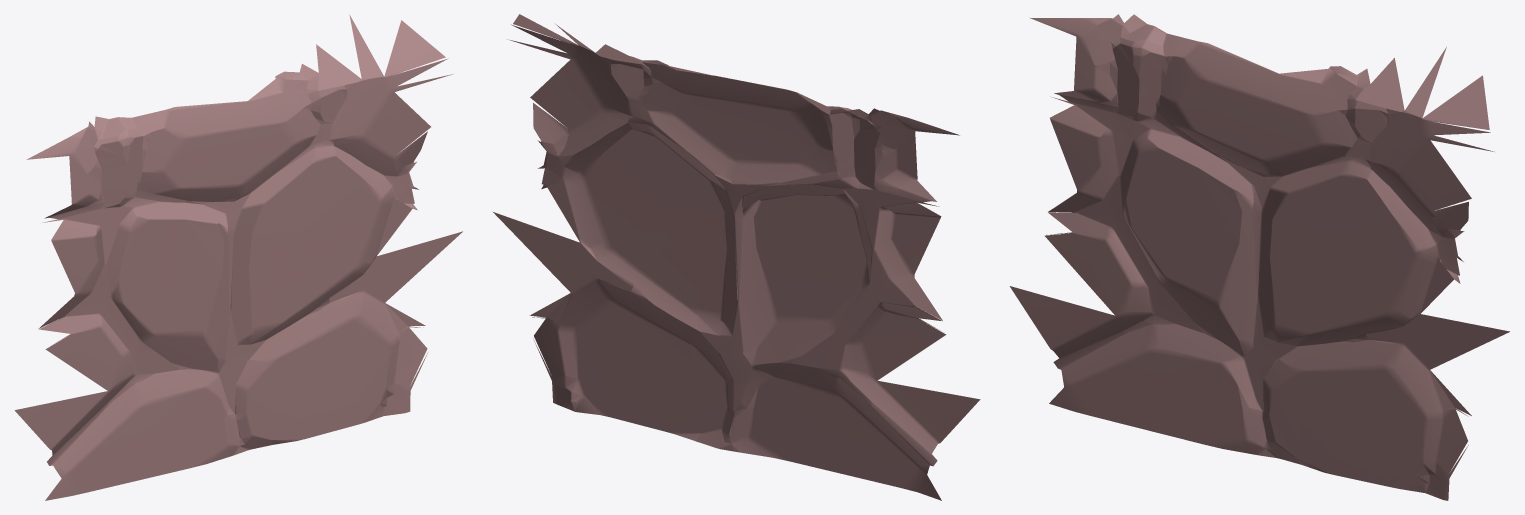
Rendered from plateau.fbx_Rock_Plateau_007LODs.fbx.
3 views of the same model, side by side, from view 1: azimuth 30°, elevation 25°; view 2: azimuth 150°, elevation 25°; view 3: azimuth 330°, elevation 25° (orthographic). The views are drawn at different scales.
Parts seen in each view (by area): view 1: Rock Plateau.007_LOD0; view 2: Rock Plateau.007_LOD0; view 3: Rock Plateau.007_LOD0.
Part boxes in pixels (x1,y1,x2,y2): Rock Plateau.007_LOD0: (14,14,462,500); Rock Plateau.007_LOD0: (493,14,980,500); Rock Plateau.007_LOD0: (1009,14,1509,500).
Size of what is drawn, in the model's own units: 3237 by 2638 by 389.
